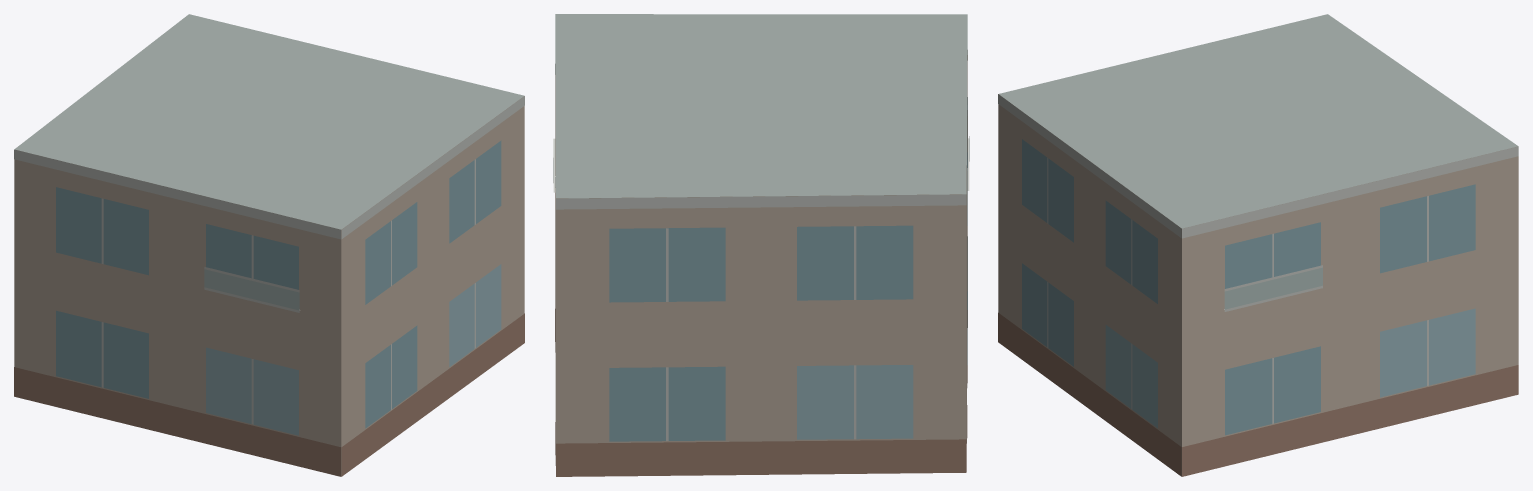
File: survey-upis-32674341.glb
The picture shows the model from 3 angles, left to right: view 1: azimuth 30°, elevation 25°; view 2: azimuth 150°, elevation 25°; view 3: azimuth 270°, elevation 25°; orthographic projection. The views are drawn at different scales.
Visible parts, largest first — view 1: survey-upis-32674341.tmp; view 2: survey-upis-32674341.tmp; view 3: survey-upis-32674341.tmp.
Boxes of the visible parts, box(x1,y1,x2,y2) form: survey-upis-32674341.tmp: box(14, 14, 524, 476); survey-upis-32674341.tmp: box(553, 14, 969, 476); survey-upis-32674341.tmp: box(998, 14, 1518, 476).
Bounding box in the file's own units: 11.32 × 6.1 × 11.6.
